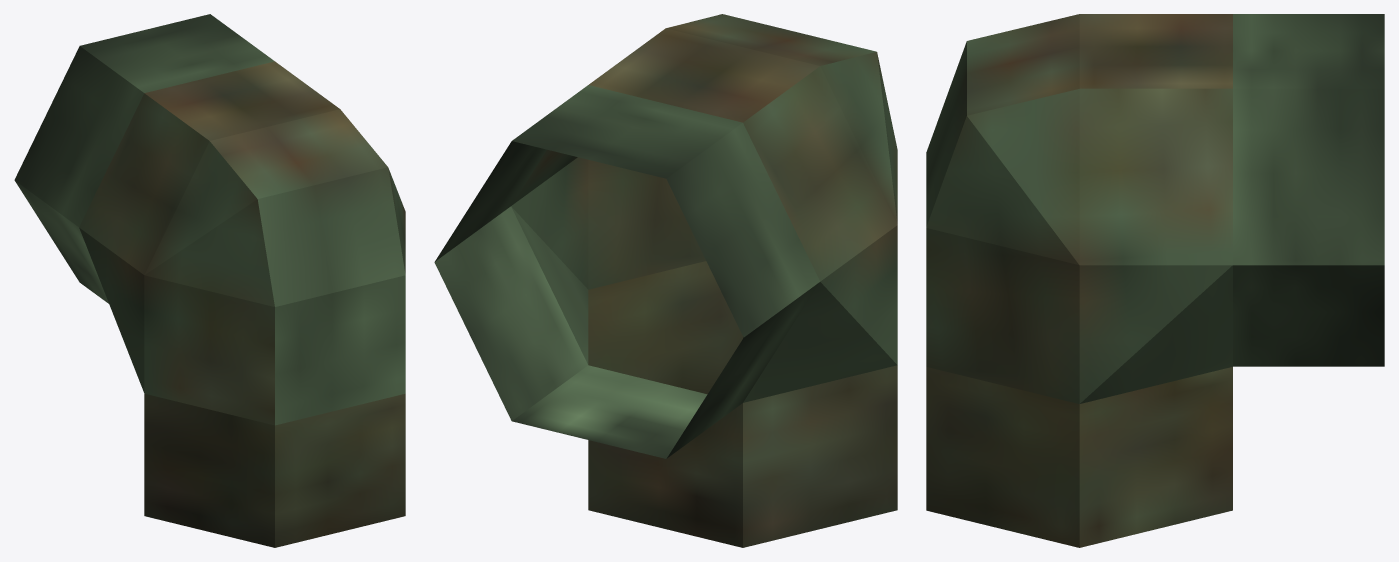
The model's file is MESH_PIPE_MEDIUM_2_R_003.fbx.
3 renders of one model, left to right at view 1: azimuth 30°, elevation 25°; view 2: azimuth 150°, elevation 25°; view 3: azimuth 270°, elevation 25°, orthographic. The views are drawn at different scales.
Visible parts, largest first — view 1: MESH_PIPE_MEDIUM_2_R.003; view 2: MESH_PIPE_MEDIUM_2_R.003; view 3: MESH_PIPE_MEDIUM_2_R.003.
Boxes of the visible parts, bbox=[...] form: MESH_PIPE_MEDIUM_2_R.003: bbox=[14, 14, 405, 547]; MESH_PIPE_MEDIUM_2_R.003: bbox=[434, 14, 897, 547]; MESH_PIPE_MEDIUM_2_R.003: bbox=[926, 14, 1384, 547].
Bounding box in the file's own units: 0.2541 × 0.3339 × 0.3291.
